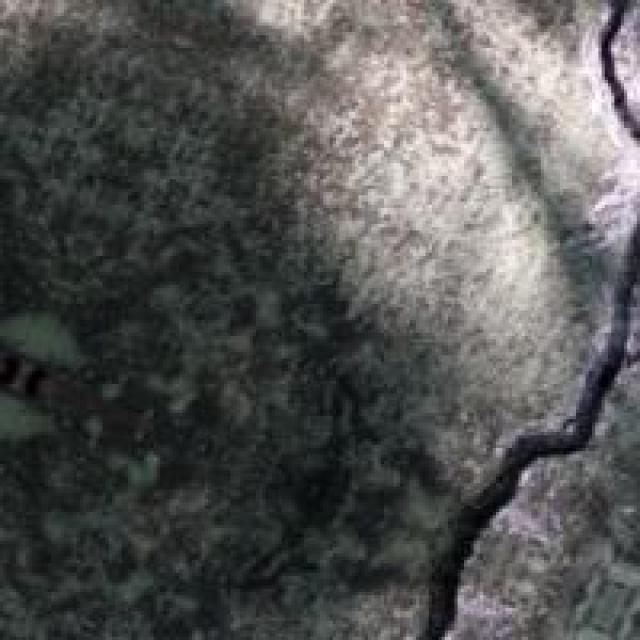Crack: (387, 3, 637, 637)
